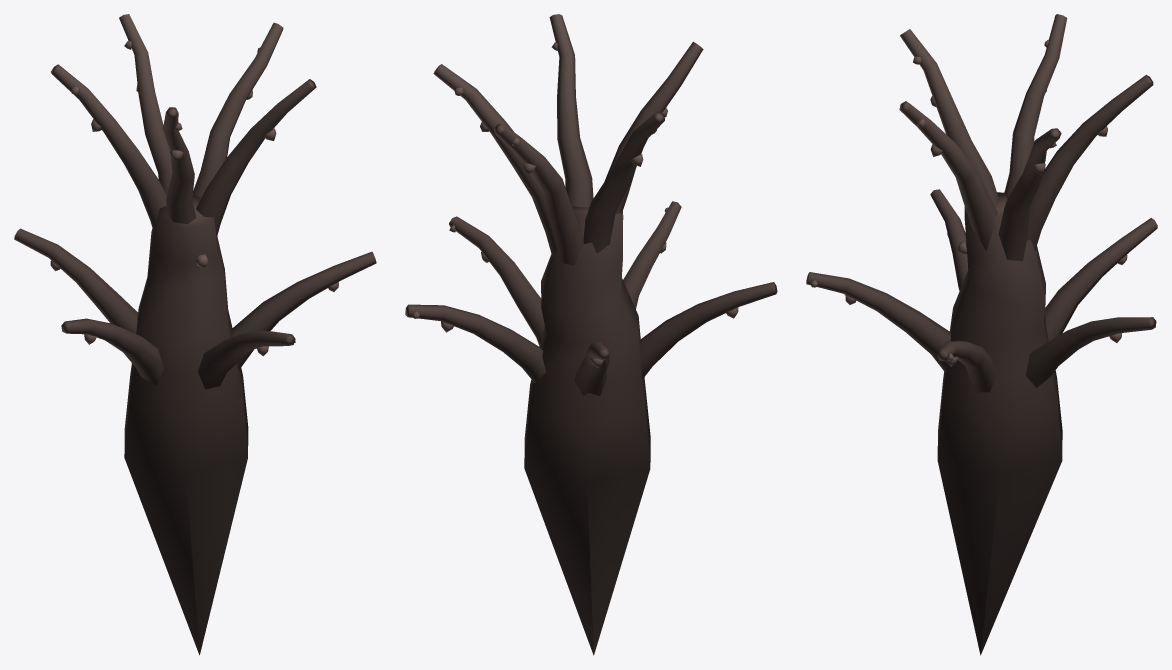
The model's file is plants-bushes-twigs-bare-shrub_v4.glb.
3 views of the same model, side by side, from view 1: azimuth 30°, elevation 25°; view 2: azimuth 150°, elevation 25°; view 3: azimuth 270°, elevation 25° (orthographic). The views are drawn at different scales.
Parts seen in each view (by area): view 1: Bare Shrub_v4; view 2: Bare Shrub_v4; view 3: Bare Shrub_v4.
Part boxes in pixels (bbox=[...]): Bare Shrub_v4: bbox=[14, 14, 376, 655]; Bare Shrub_v4: bbox=[405, 14, 777, 655]; Bare Shrub_v4: bbox=[806, 14, 1157, 655].
Bounding box in the file's own units: 0.4486 × 0.8 × 0.4284.
